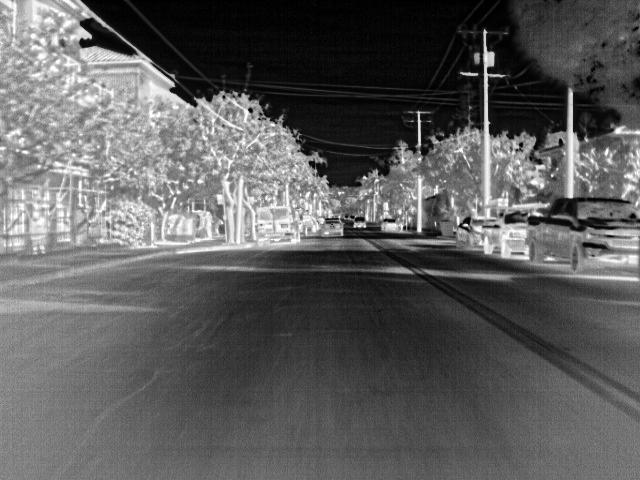car: (529, 197, 640, 275), (255, 206, 302, 246), (501, 209, 531, 258), (481, 213, 503, 256), (456, 215, 482, 250), (324, 218, 346, 236), (300, 215, 315, 235), (382, 216, 399, 232), (353, 214, 368, 228), (315, 214, 322, 228)
person: (203, 211, 215, 240)
